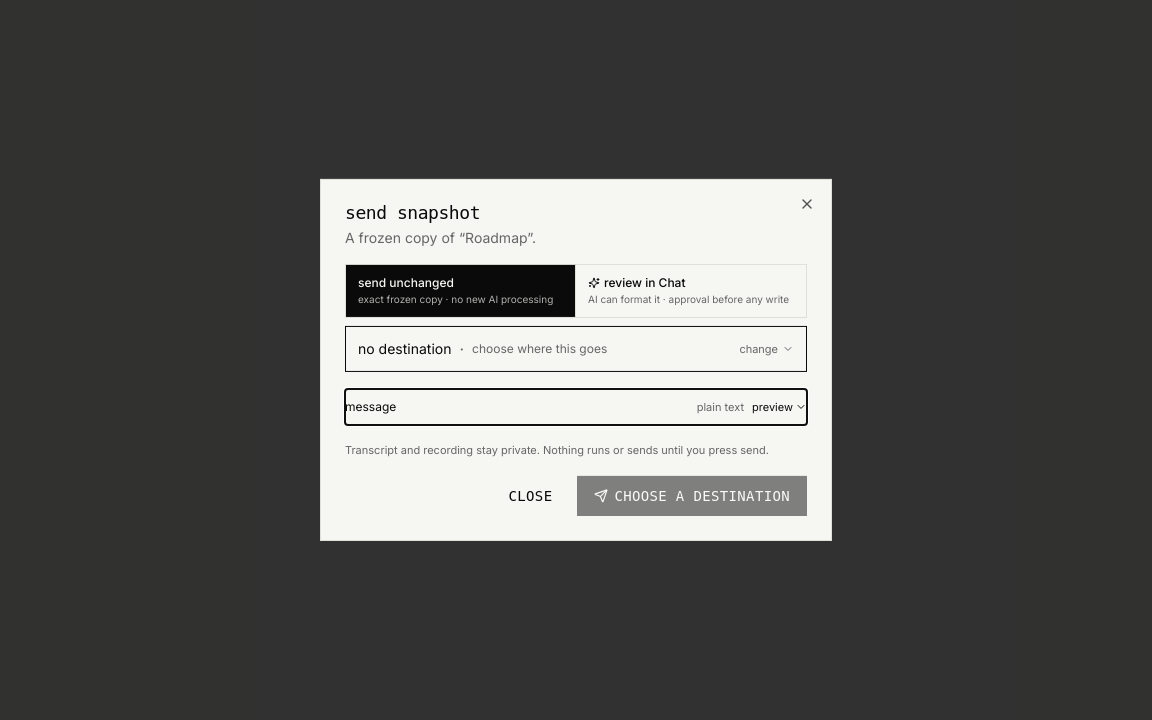
Test: ConnectedShareDialog › makes unchanged versus Chat processing an explicit choice
Expected: the button with test id "connected-share-mode-unchanged" shows "no new AI processing", [346,265,576,317]
What coordinates should you click on to do the following:
click the button with test id "connected-share-mode-chat"
I would click on:
 (691, 291)
Its box is [576,265,806,317].
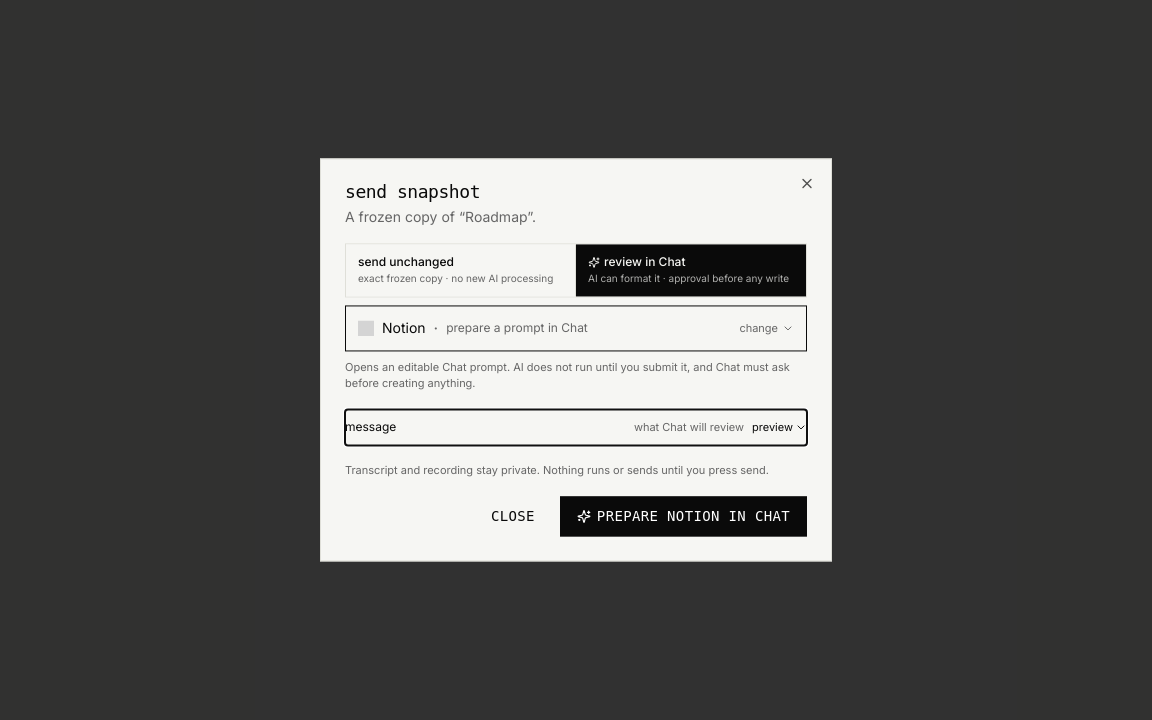
Now the button with test id "connected-share-destination" shows "Notion", box [345,305,807,351]
Now the button with test id "connected-share-confirm" reads "prepare Notion in Chat", box [560,497,807,537]
What coordinates should you click on to do the following:
click the button with test id "connected-share-mode-unchanged"
I would click on:
 (461, 270)
Its box is [346,244,576,296].
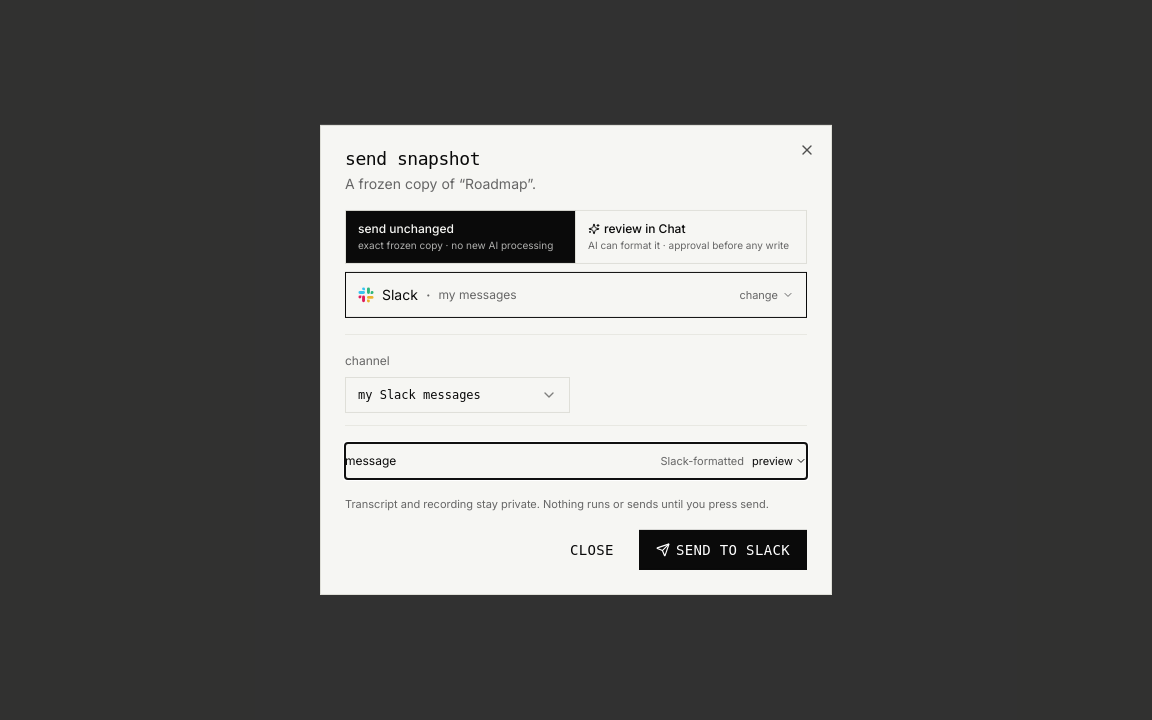
Now the button with test id "connected-share-destination" shows "Slack", box [345,272,807,318]
Now the button with test id "connected-share-confirm" reads "send to Slack", box [639,530,807,570]
